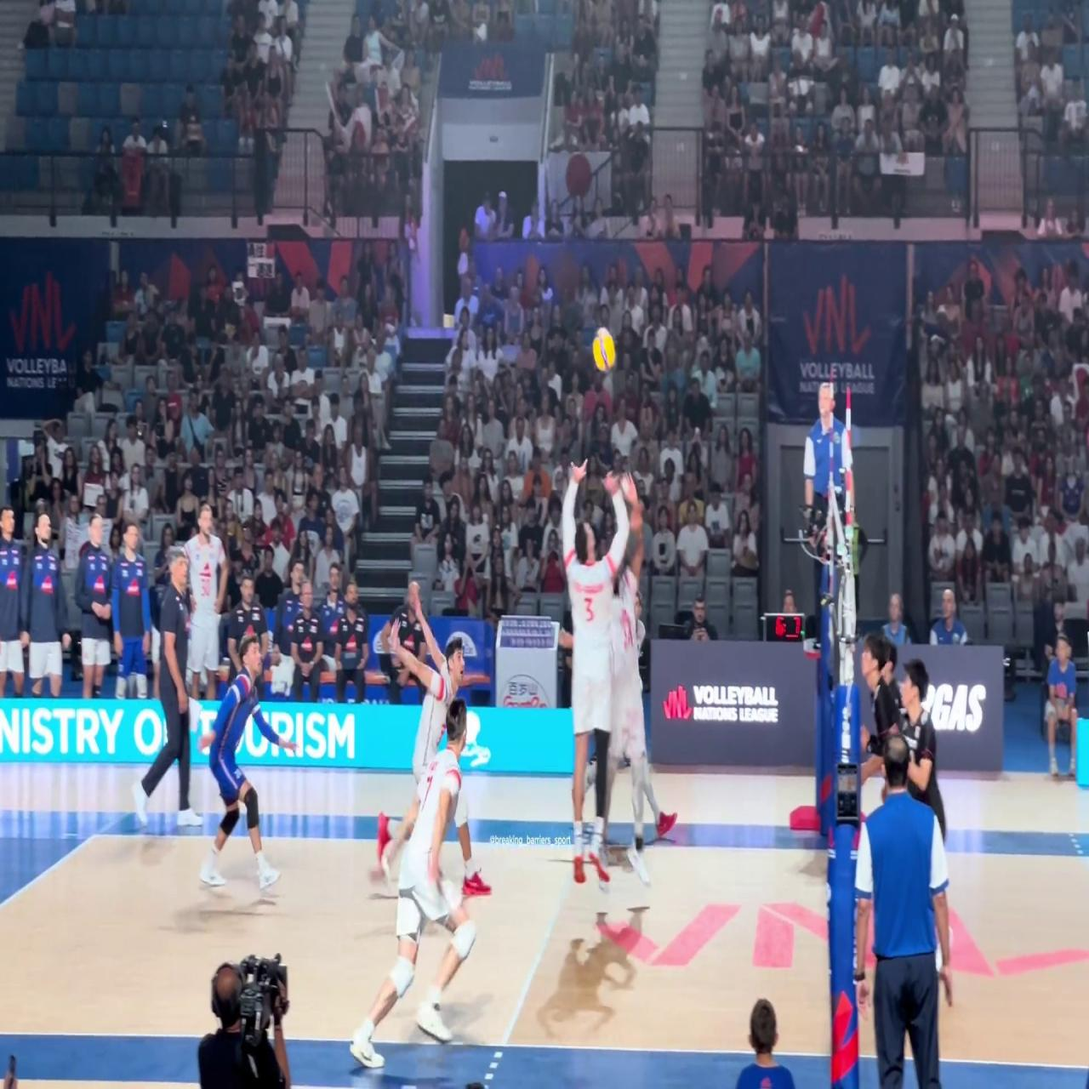ball: (592, 328, 616, 373)
